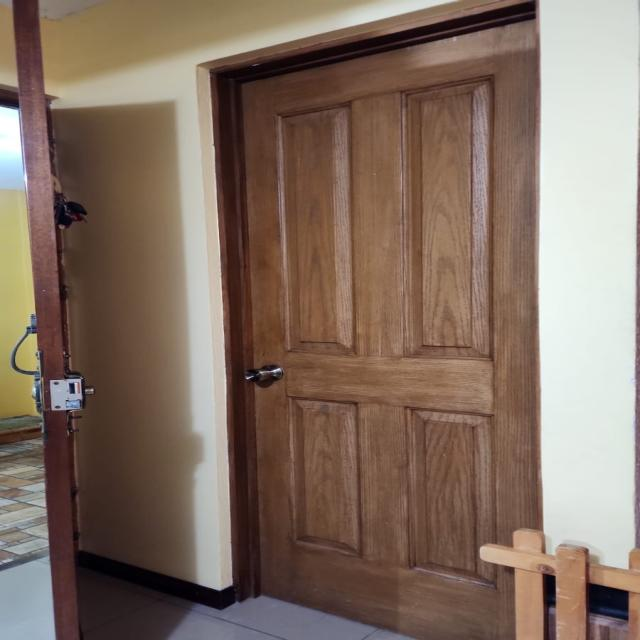ClosedDoor: (185, 0, 562, 640)
